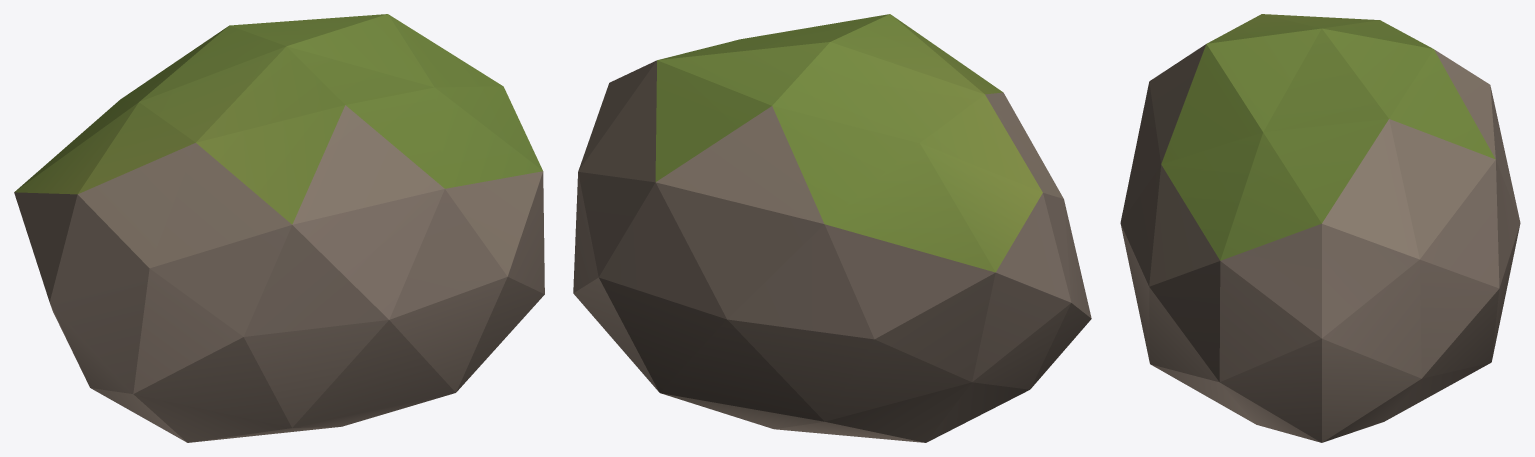
File: rocher_couvert.glb
3 renders of one model, left to right at view 1: azimuth 30°, elevation 25°; view 2: azimuth 150°, elevation 25°; view 3: azimuth 270°, elevation 25°, orthographic. The views are drawn at different scales.
Visible parts, largest first — view 1: rocher_couvert; view 2: rocher_couvert; view 3: rocher_couvert.
Boxes of the visible parts, x1,y1,x2,y2 form: rocher_couvert: [14, 14, 544, 442]; rocher_couvert: [573, 14, 1091, 442]; rocher_couvert: [1120, 14, 1520, 442].
Bounding box in the file's own units: 2.26 × 1.54 × 1.67.
